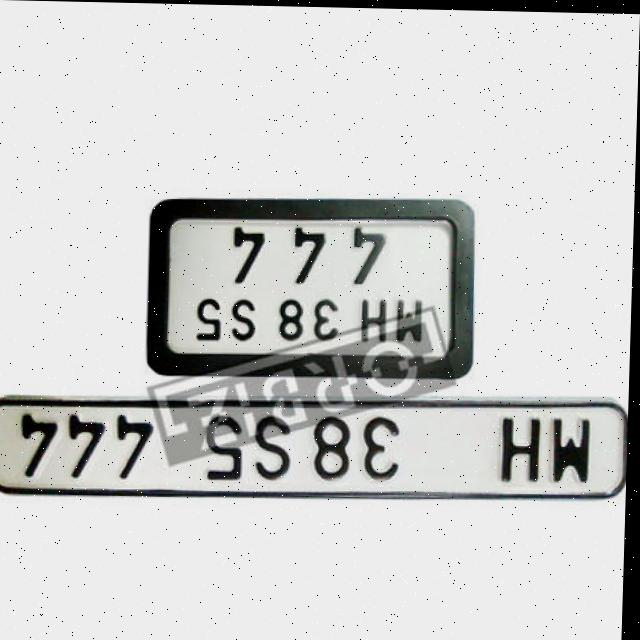plate: (0, 384, 631, 511), (143, 188, 483, 384)
